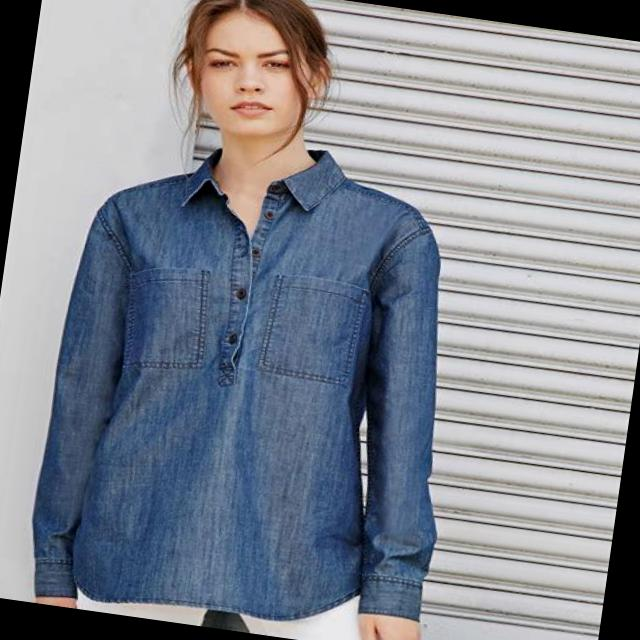shirt: (22, 116, 488, 640)
